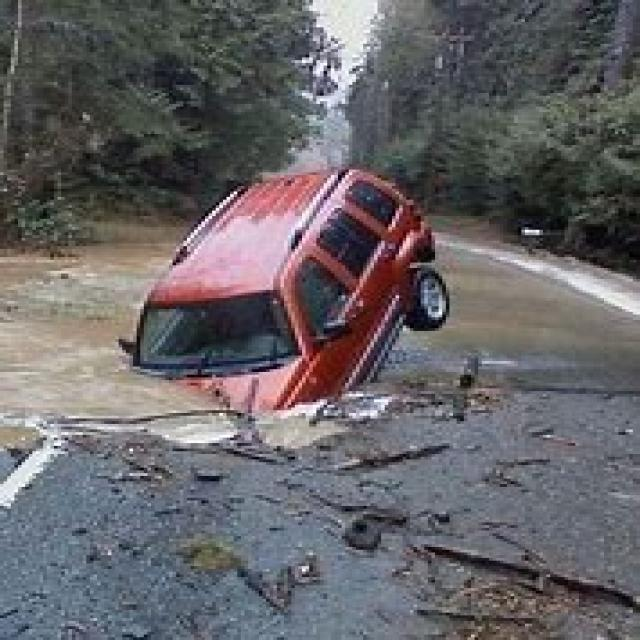Accident: (49, 132, 577, 512)
